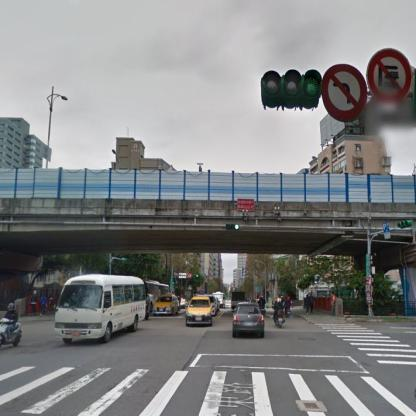Green Light: (263, 68, 318, 105), (223, 221, 239, 231)
